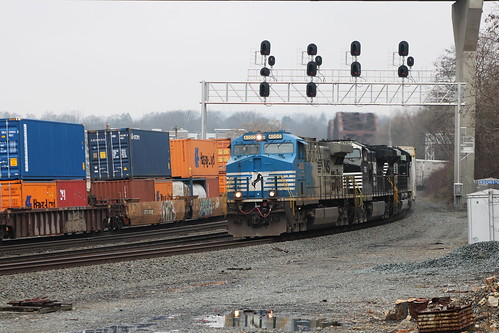sky: (1, 1, 465, 110)
train: (1, 119, 228, 234), (225, 133, 427, 241)
train track: (1, 215, 247, 285)
